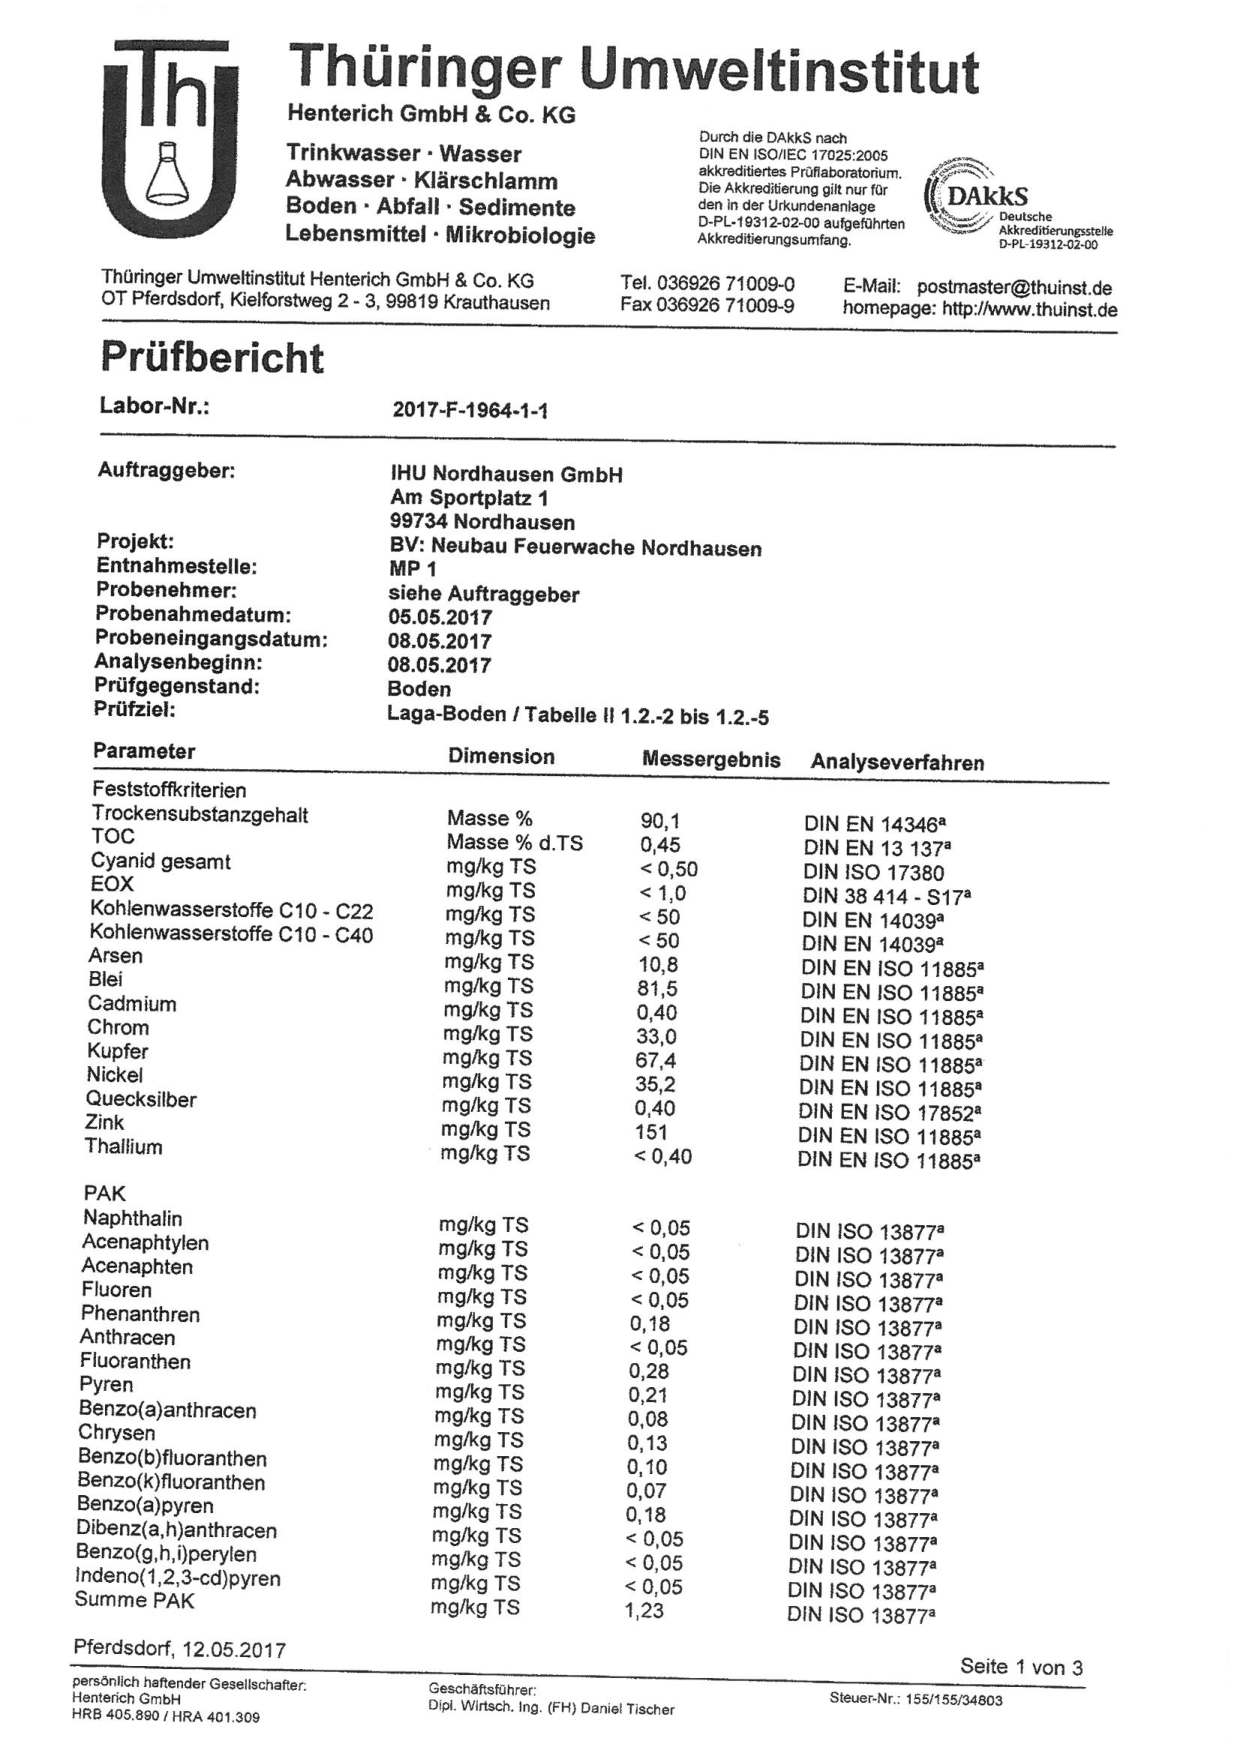table: (52, 732, 1049, 1173), (58, 1169, 951, 1631), (64, 452, 827, 733)
